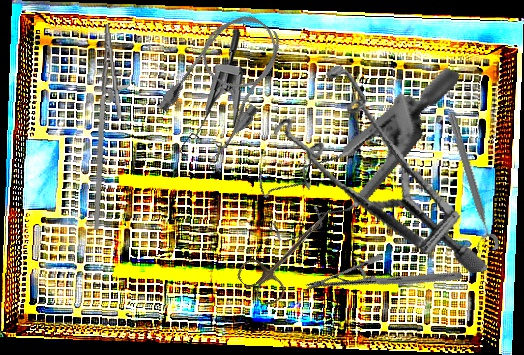Cannula: (151, 0, 303, 162)
Fixation Ring: (436, 111, 501, 255)
Iris Scissors: (233, 191, 347, 310)
Needle Holder: (304, 209, 464, 353), (78, 22, 141, 231)
Speculum: (263, 44, 488, 308), (240, 20, 461, 280), (172, 28, 250, 172)
